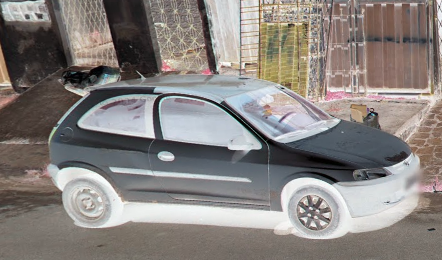car: (47, 74, 421, 239)
